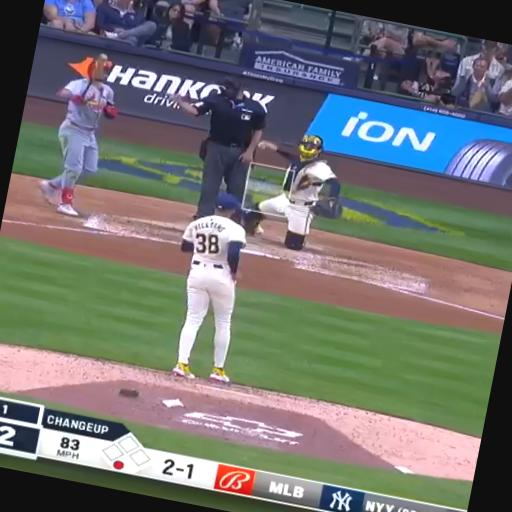bat: (82, 54, 107, 99)
